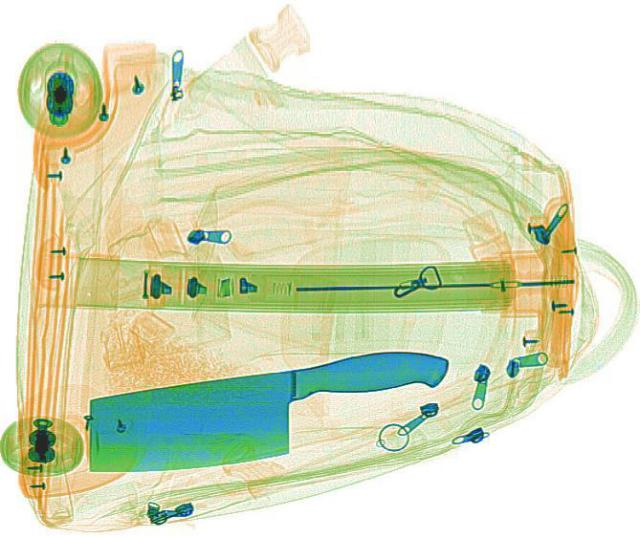Knife: (62, 332, 464, 487)
